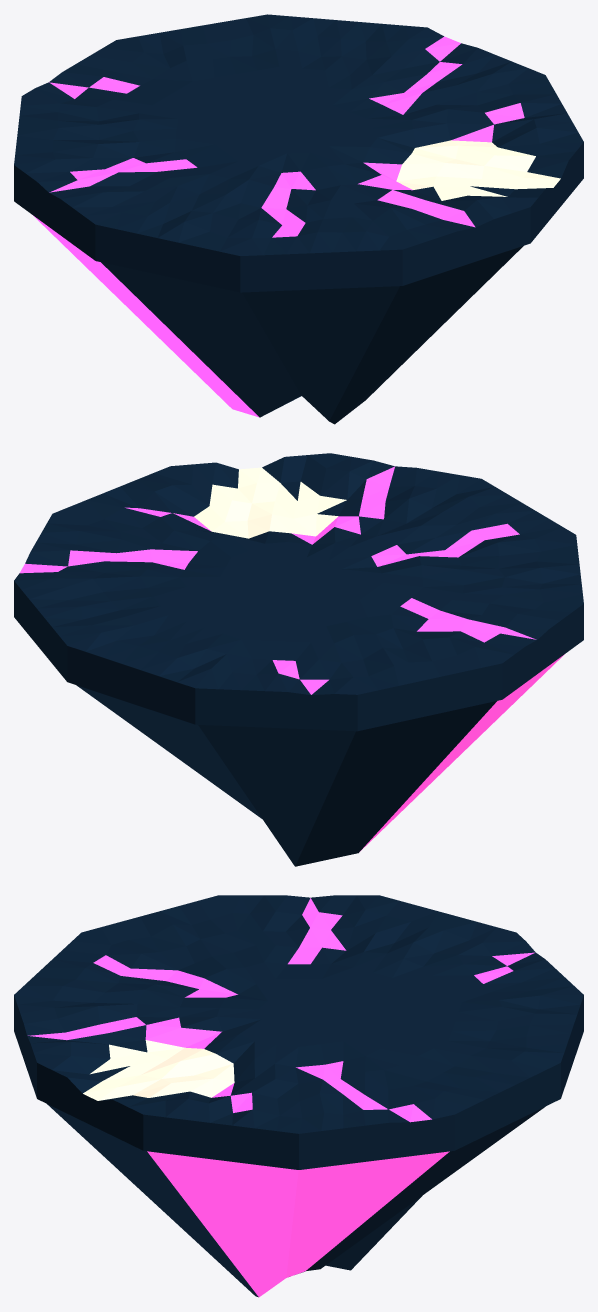
The model's file is island.glb.
The picture shows the model from 3 angles, top to bottom: view 1: azimuth 30°, elevation 25°; view 2: azimuth 150°, elevation 25°; view 3: azimuth 270°, elevation 25°; orthographic projection.
Parts seen in each view (by area): view 1: Island, Under; view 2: Island, Under; view 3: Island, Under.
Part boxes in pixels (bbox=[...]): Island: bbox=[14, 14, 583, 292]; Under: bbox=[33, 215, 523, 424]; Island: bbox=[14, 453, 583, 731]; Under: bbox=[76, 654, 564, 866]; Island: bbox=[14, 895, 583, 1169]; Under: bbox=[47, 1104, 545, 1297].
Size of the model in its own units: 7.05 by 3.85 by 7.13.
